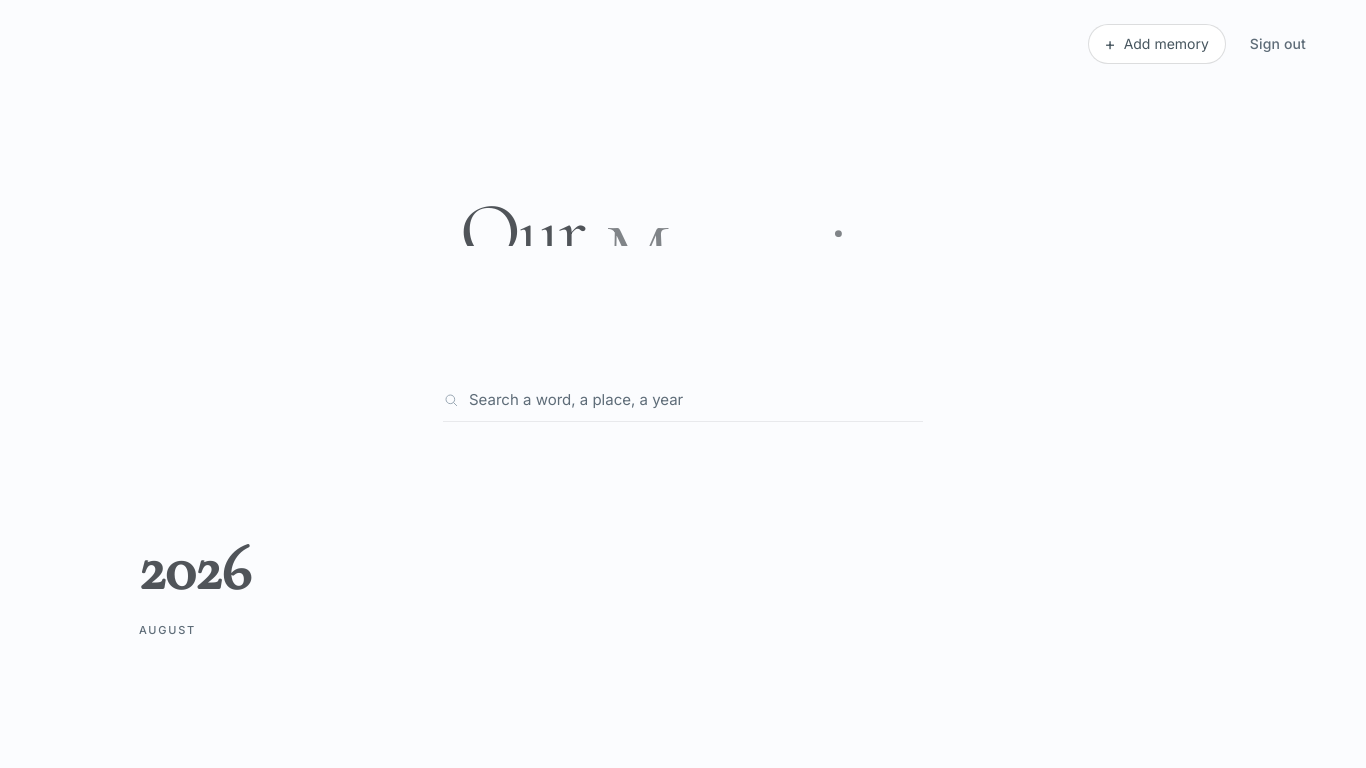
Test: adding a memory › warns up front when there is nowhere to store anything
Click the button with aria-label "Add a memory". click: coordinates (1157, 44)
box: [1088, 24, 1226, 64]
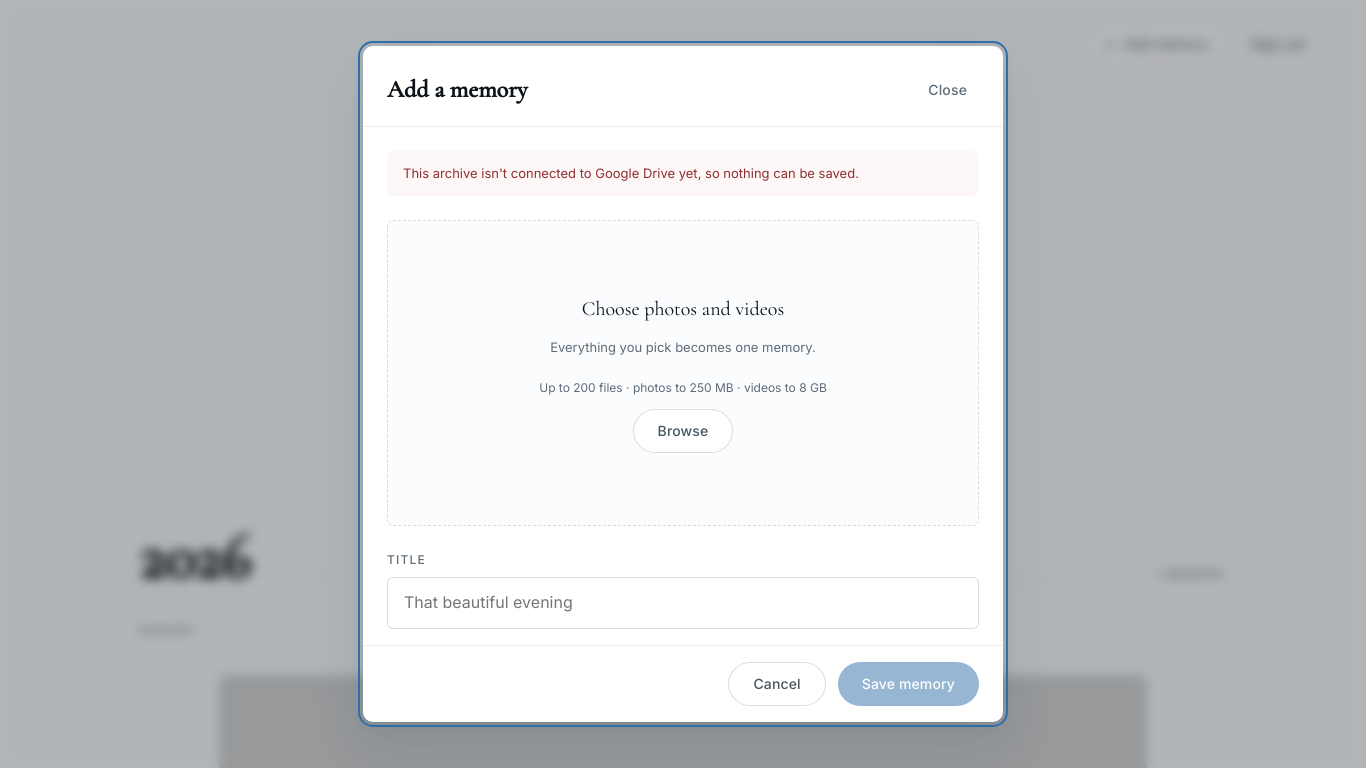
Now the text "isn't connected to Google Drive yet" is shown, box [403, 165, 859, 181]
